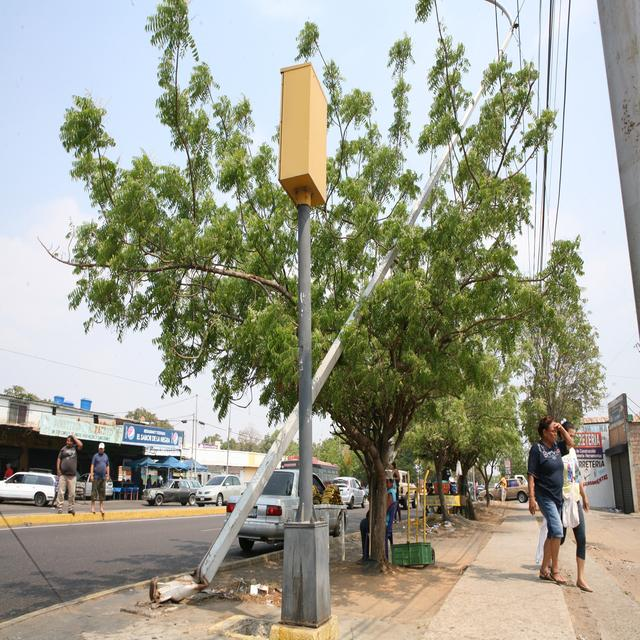Inclined Pole: (144, 37, 513, 604)
